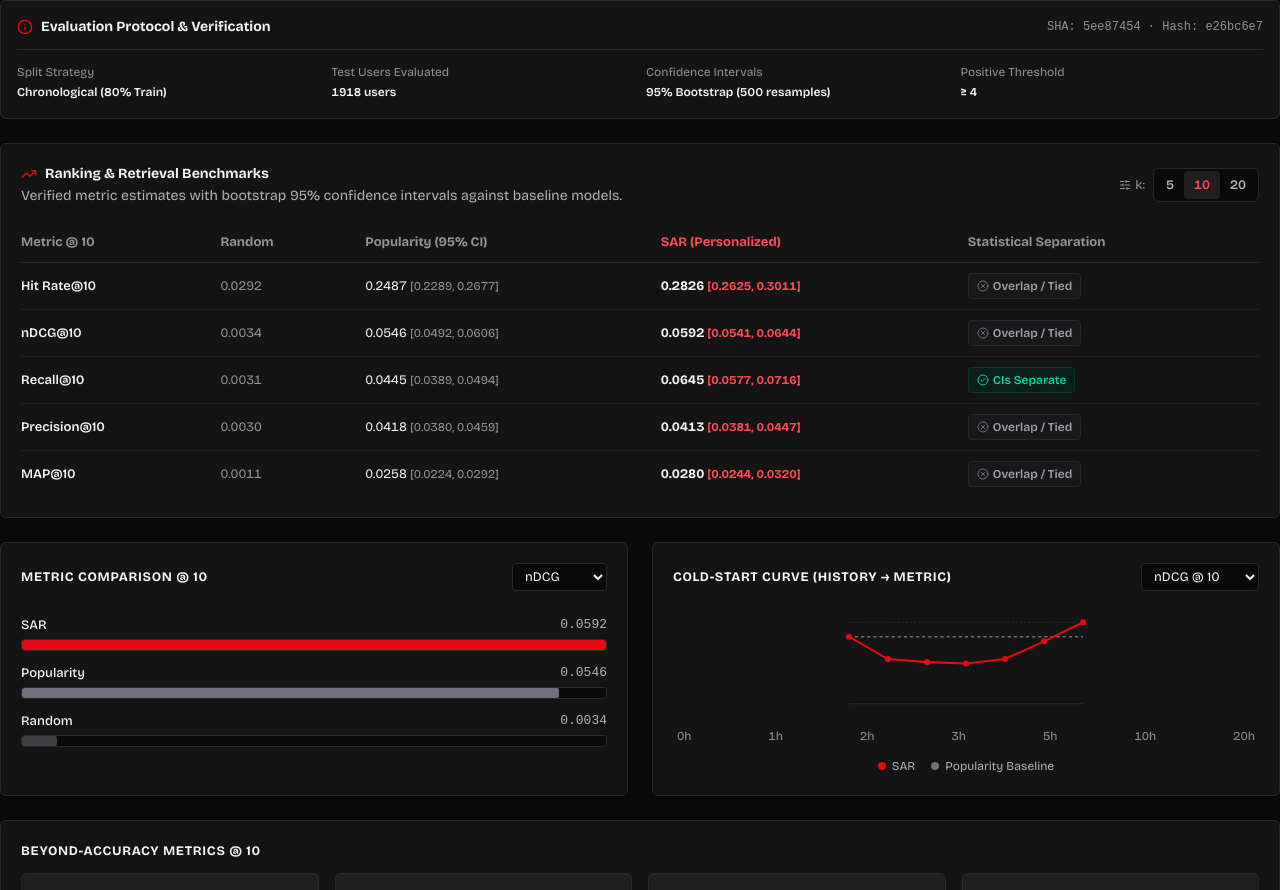
Test: EvaluationTab (P9.7) › updates metrics table when switching k selector
// Switch k to 5
Click the button "5".
click(1170, 185)  # box [1156,171,1184,199]
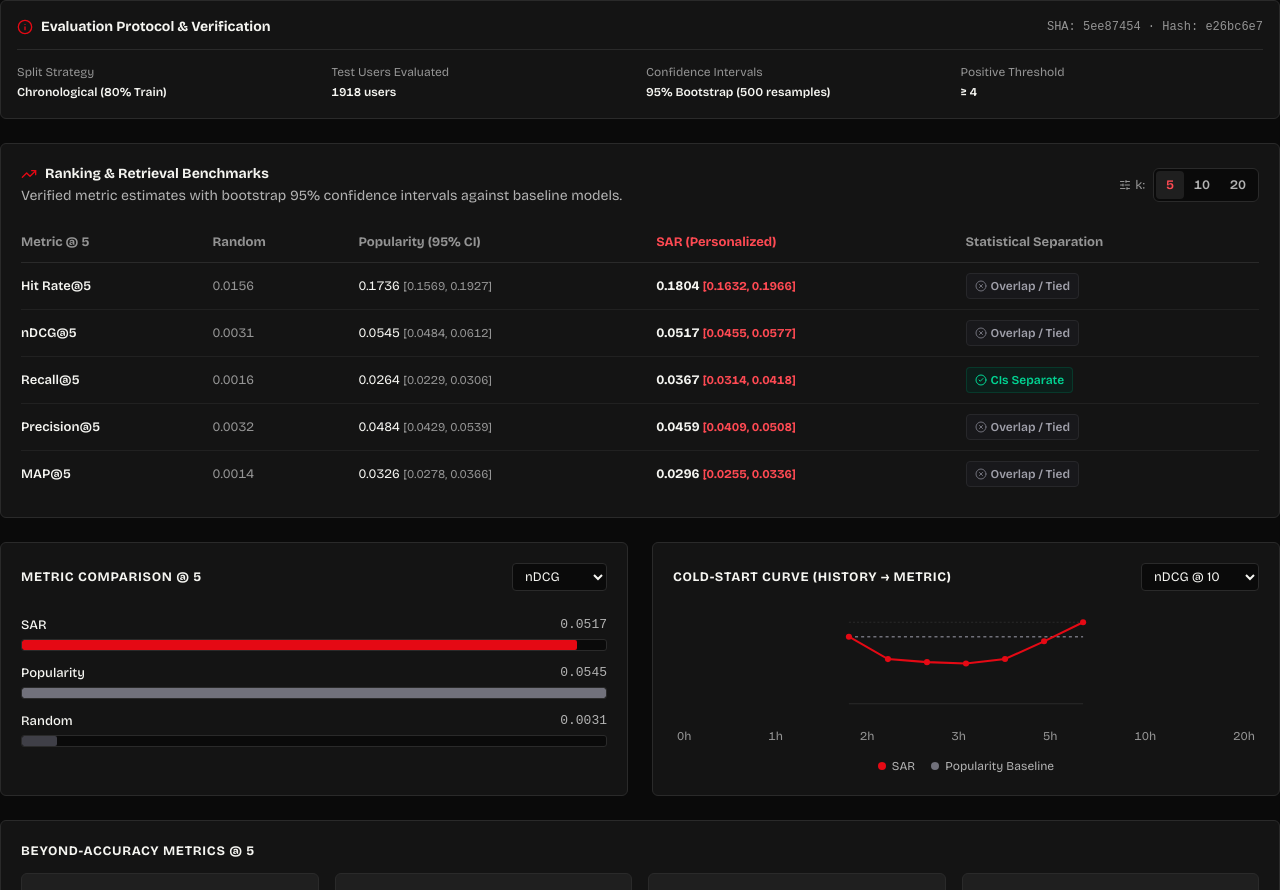
Result: the text "0.0459" is shown at [656,419,700,435]
